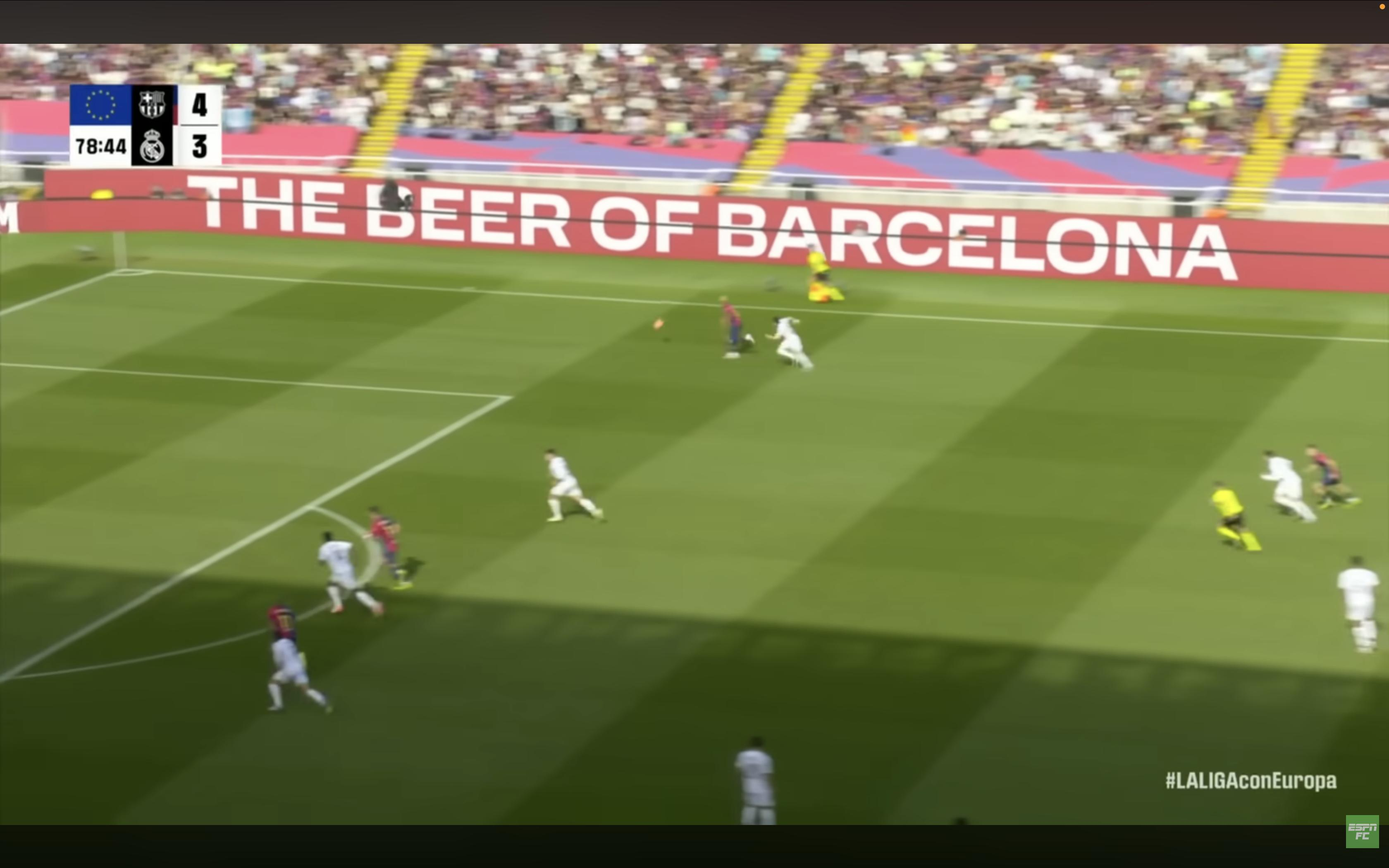ball: (653, 319, 665, 330)
player: (268, 605, 332, 712), (318, 532, 383, 616), (544, 449, 604, 522), (364, 506, 412, 589), (1261, 451, 1317, 522), (1338, 557, 1379, 653), (735, 738, 775, 825), (1306, 445, 1360, 509), (767, 317, 814, 371), (719, 297, 754, 358)
referee: (1211, 482, 1261, 551), (807, 243, 844, 303)
